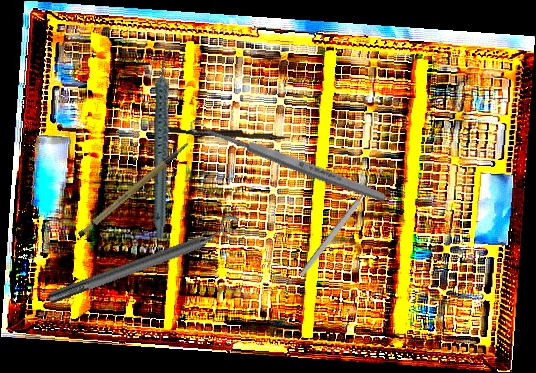Fixation Ring: (42, 211, 248, 313)
Handpiece: (116, 48, 212, 240)
Pusher: (167, 126, 291, 141)
Scalpel Handle: (67, 141, 202, 241)
Surgical Spoon: (187, 116, 389, 206), (297, 167, 387, 279)
